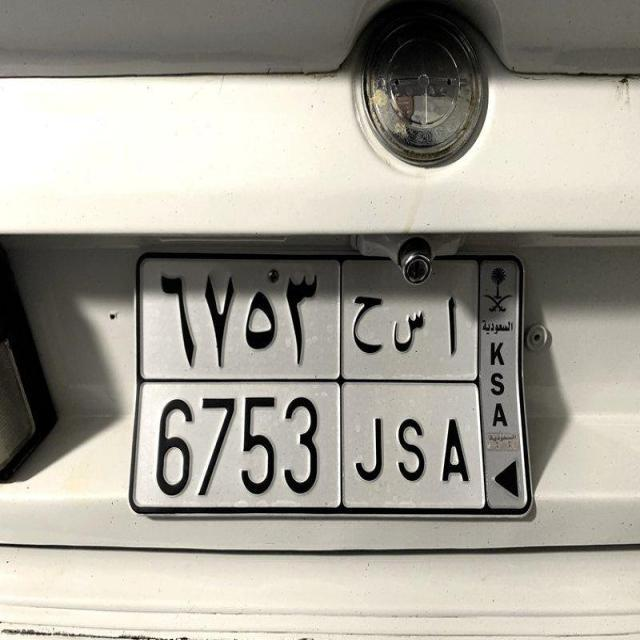license_plate: (91, 223, 521, 541)
